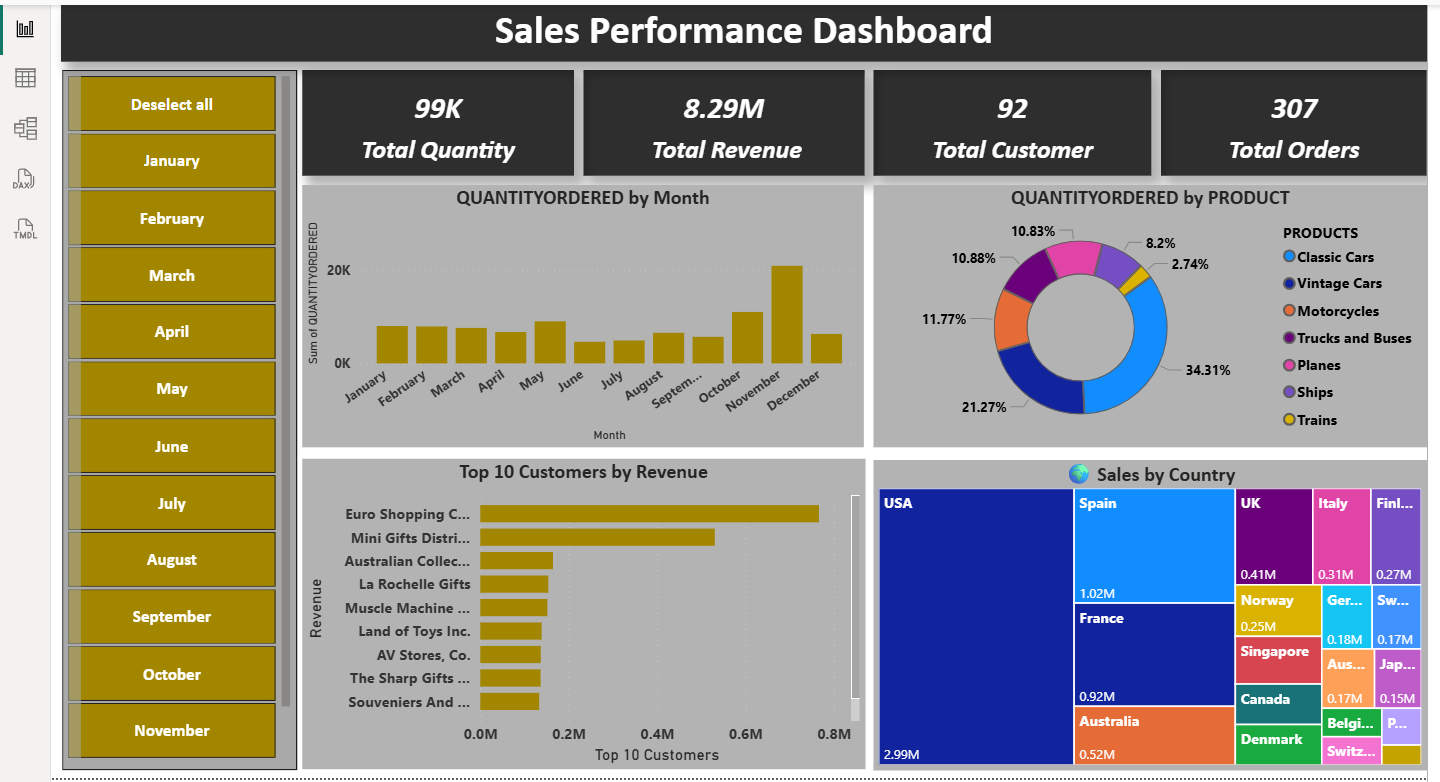

The page's visual inventory and layout, read from the dashboard file:
{"tool":"powerbi","page":{"name":"Page 2","canvas":[1280,720],"ordinal":1},"visuals":[{"type":"textbox","box":[9.7,0,1270.8,52.8],"z":0},{"type":"card","fields":{"Values":["Sales_Data1.Total Quantity"]},"box":[233.8,60,252.5,98.8],"z":1000},{"type":"card","fields":{"Values":["Sales_Data1.Total Orders"]},"box":[1032.5,60,247.5,98.8],"z":2000},{"type":"card","fields":{"Values":["Sales_Data1.Total Customers"]},"box":[765,60,258.8,98.8],"z":3000},{"type":"card","fields":{"Values":["Sum(Sales_Data1.Total Revenue)"]},"box":[495,60,261.2,98.8],"z":4000},{"type":"donutChart","fields":{"Category":["Sales_Data1.PRODUCTLINE"],"Y":["Sum(Sales_Data1.QUANTITYORDERED)"]},"box":[765,167.5,515,243.8],"z":5000},{"type":"advancedSlicerVisual","fields":{"Values":["Sales_Data1.ORDERDATE.1.Variation.Date Hierarchy.Month"]},"box":[10,60,218,651.2],"z":6000},{"type":"columnChart","title":" QUANTITYORDERED by Month","fields":{"Category":["Sales_Data1.ORDERDATE.1.Variation.Date Hierarchy.Month"],"Y":["Sum(Sales_Data1.QUANTITYORDERED)"]},"box":[233.8,167.5,522.5,243.8],"z":7000},{"type":"barChart","fields":{"Y":["Sales_Data1.Customer Revenue"],"Category":["Sales_Data1.CUSTOMERNAME"]},"box":[233.8,422.5,523.8,288.8],"z":8000},{"type":"treemap","title":"🌍 Sales by Country","fields":{"Group":["Sales_Data1.COUNTRY"],"Values":["Sum(Sales_Data1.Total Revenue)"]},"box":[765.5,423.1,514.8,288.6],"z":9000}]}

Visuals, with their boxes in screenshot pixels (x1, y1, x2, y2):
textbox: Rect(59, 0, 1423, 57)
card - Sales_Data1.Total Quantity: Rect(300, 64, 571, 170)
card - Sales_Data1.Total Orders: Rect(1157, 64, 1423, 170)
card - Sales_Data1.Total Customers: Rect(870, 64, 1148, 170)
card - Sum(Sales_Data1.Total Revenue): Rect(580, 64, 861, 170)
donutChart - Sales_Data1.PRODUCTLINE x Sum(Sales_Data1.QUANTITYORDERED): Rect(870, 180, 1423, 442)
advancedSlicerVisual - Sales_Data1.ORDERDATE.1.Variation.Date Hierarchy.Month: Rect(59, 64, 294, 763)
" QUANTITYORDERED by Month" columnChart: Rect(300, 180, 861, 442)
barChart - Sales_Data1.Customer Revenue x Sales_Data1.CUSTOMERNAME: Rect(300, 454, 862, 764)
"🌍 Sales by Country" treemap: Rect(871, 454, 1423, 764)
